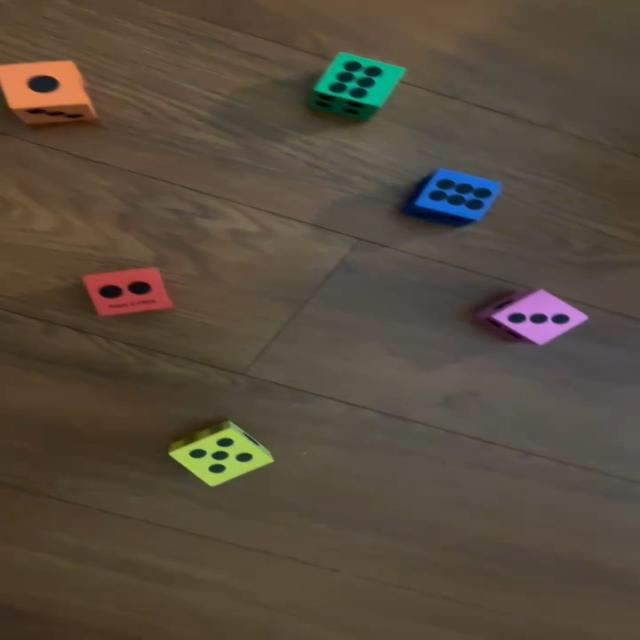blue_block: (407, 167, 503, 228)
red_block: (81, 265, 175, 317)
